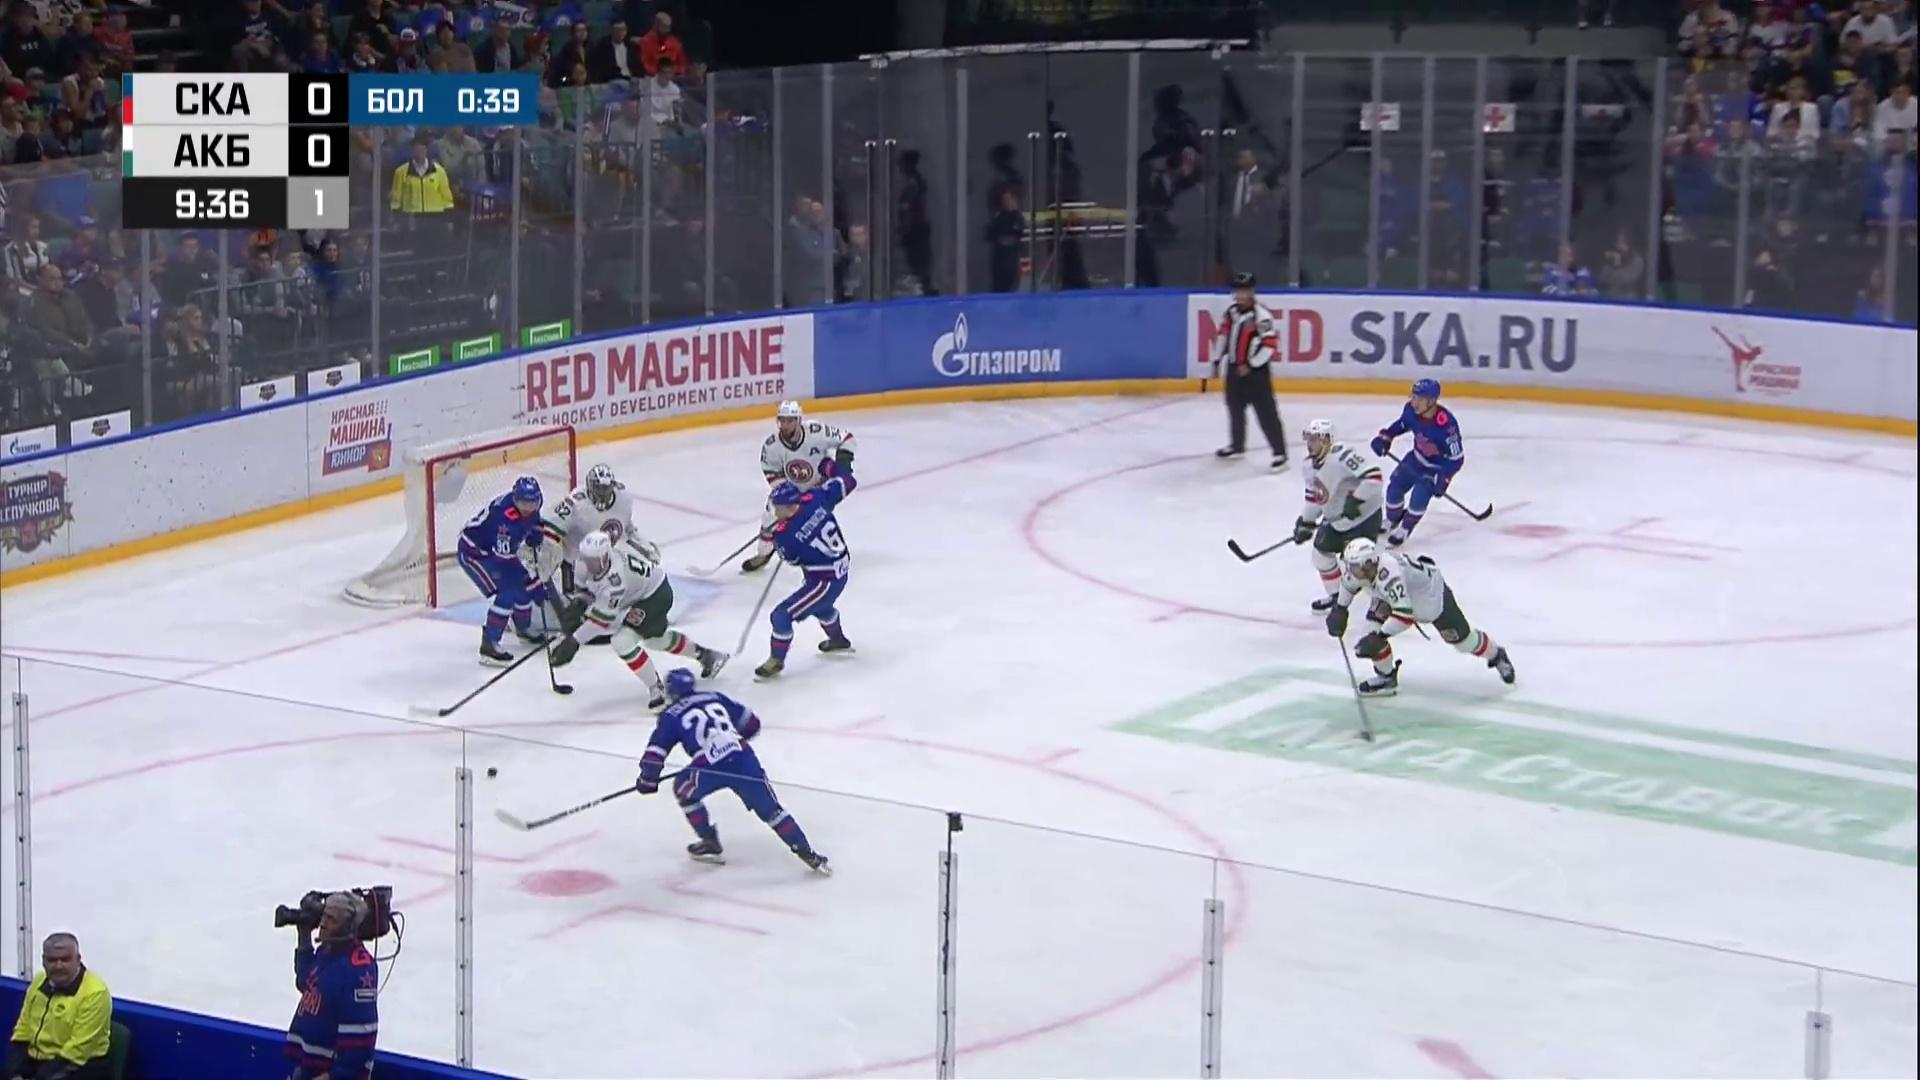ball: (487, 766, 498, 781)
